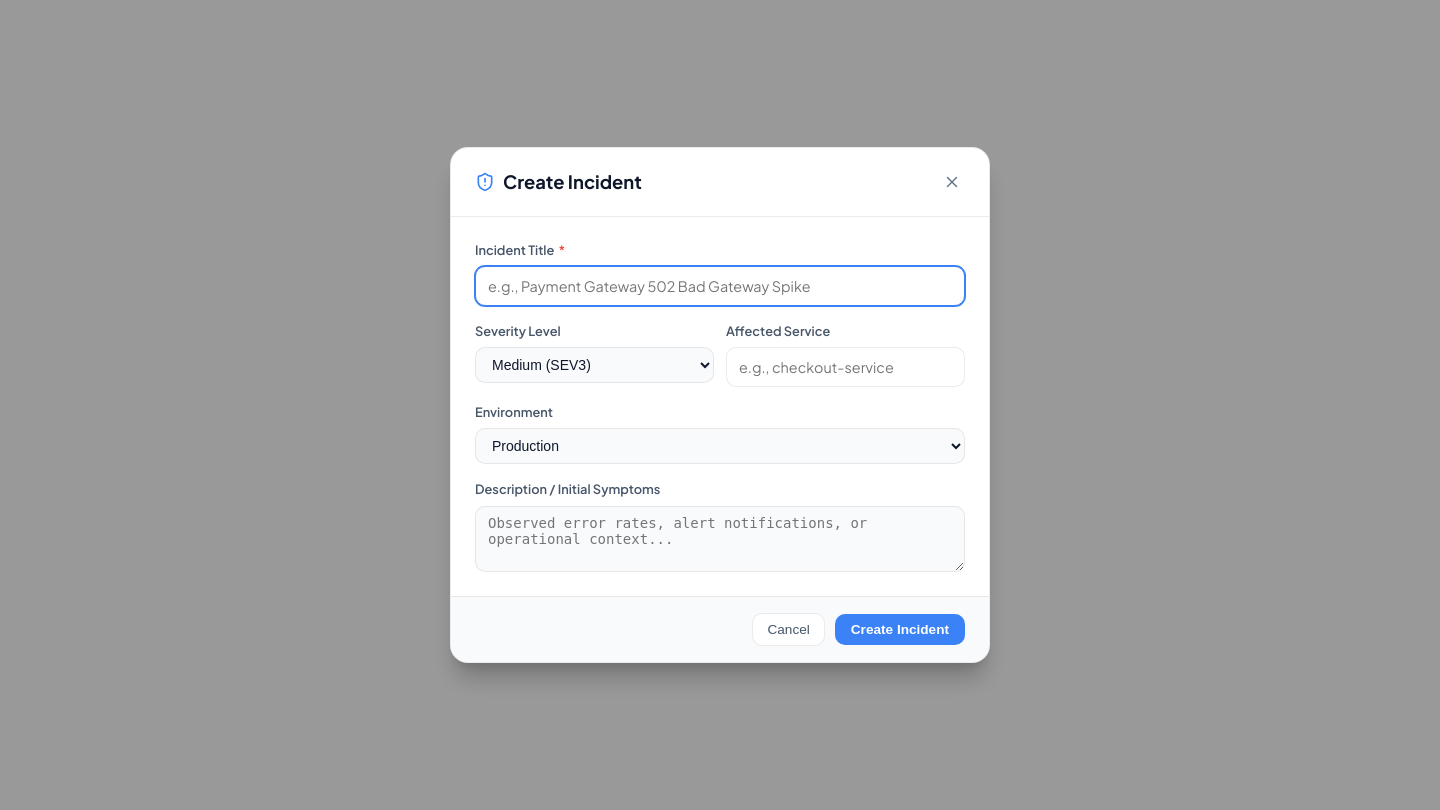
it: TracePilot Stage A: Product Identity & Incident Architecture › Incident Creation Modal › disables submit button and shows loading text during in-flight submission
This screenshot has width=1440, height=810.
Type "Valid Title" into the field with test id "incident-title-input" at (720, 286), box [475,266,965,306]
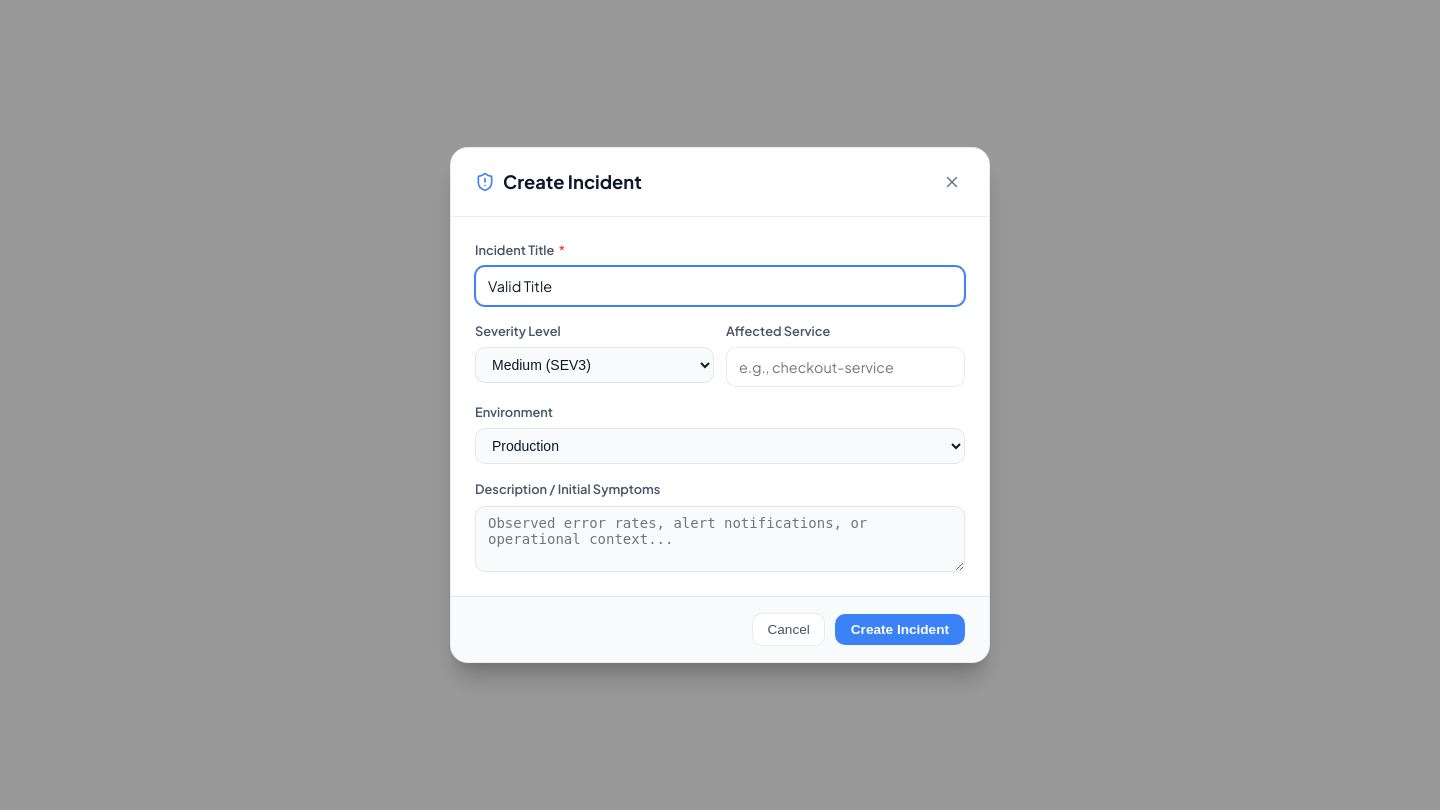
Click the button with test id "submit-incident-btn" at (900, 629), box [835,614,965,645]
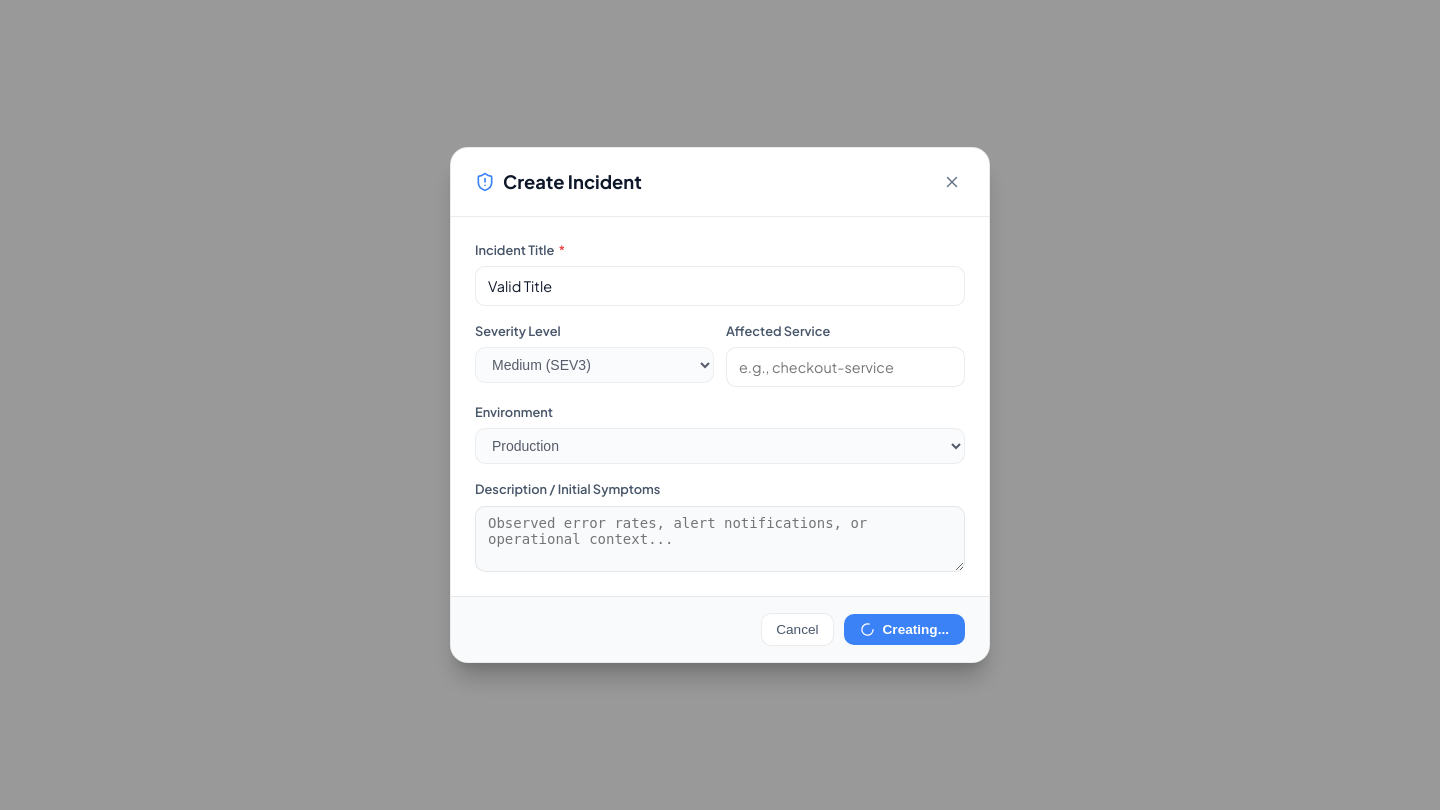
Expected: the button with test id "submit-incident-btn" is disabled, [844,614,965,645]
Expected: the button with test id "submit-incident-btn" reads "Creating...", [844,614,965,645]
